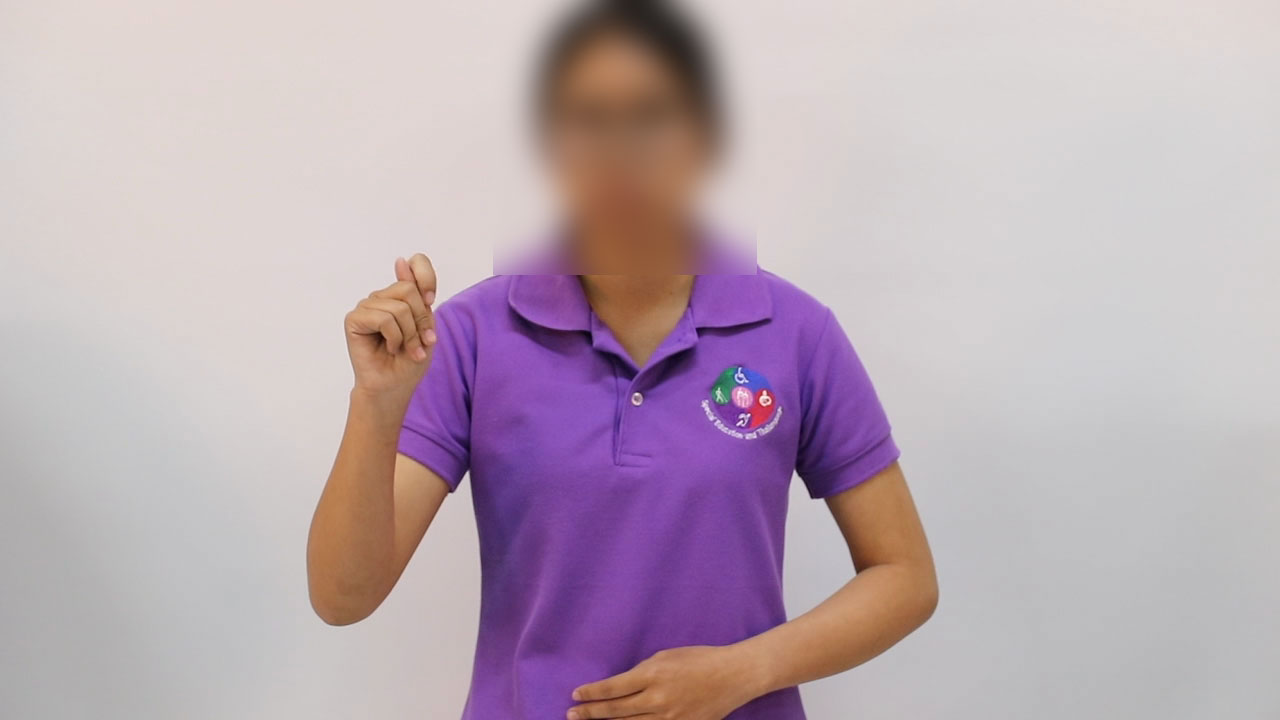tor: (315, 231, 468, 449)
